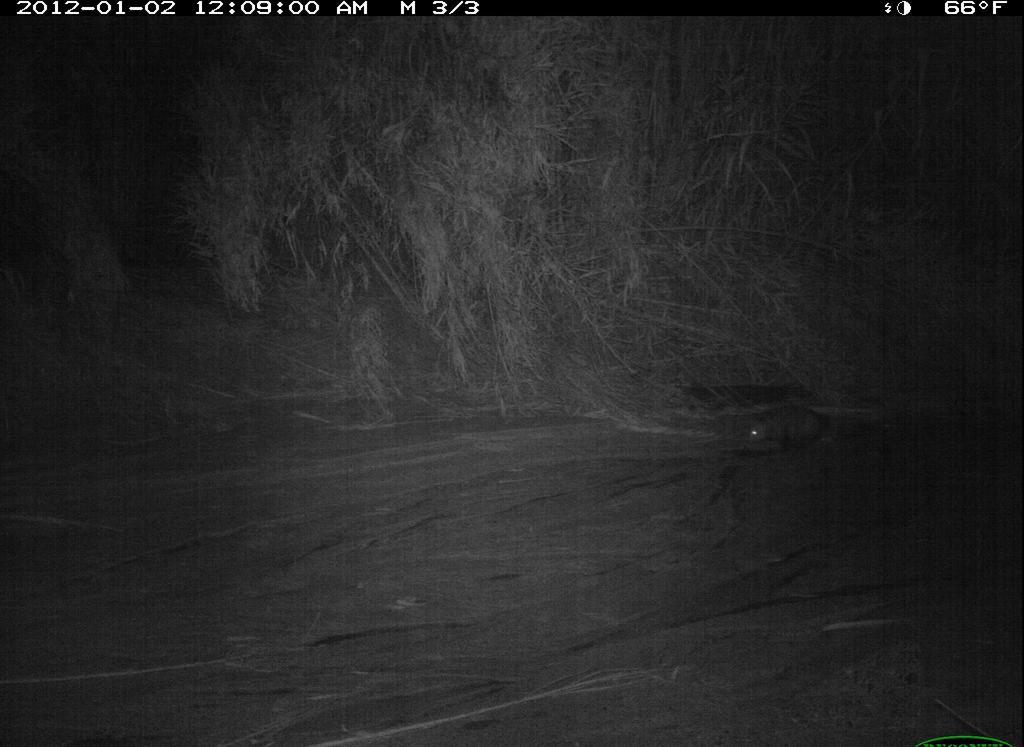opossum: (742, 402, 868, 459)
